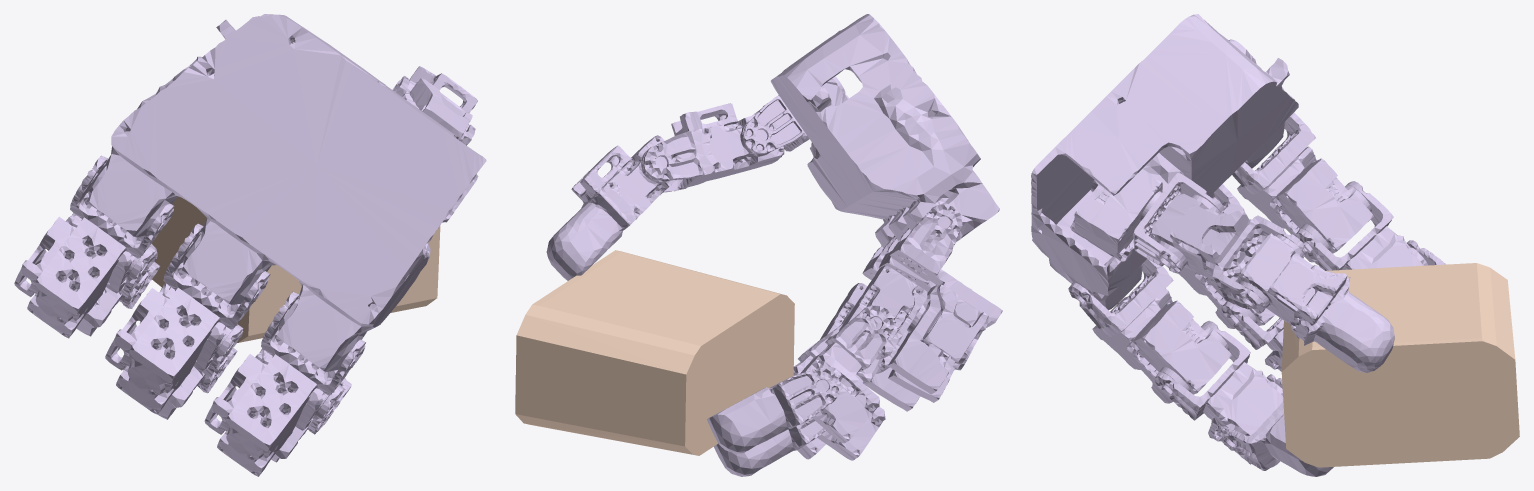
3 views of the same model, side by side, from view 1: azimuth 30°, elevation 25°; view 2: azimuth 150°, elevation 25°; view 3: azimuth 270°, elevation 25° (orthographic). The views are drawn at different scales.
Parts seen in each view (by area): view 1: LEAP_hand, world; view 2: LEAP_hand, world; view 3: LEAP_hand, world.
Boxes of the visible parts, x1,y1,x2,y2 form: LEAP_hand: [14, 14, 486, 476]; world: [152, 196, 440, 342]; LEAP_hand: [546, 14, 1002, 476]; world: [515, 250, 794, 455]; LEAP_hand: [1031, 14, 1446, 476]; world: [1281, 263, 1519, 467].
Size of the model in its own units: 0.2041 by 0.2053 by 0.2111.
